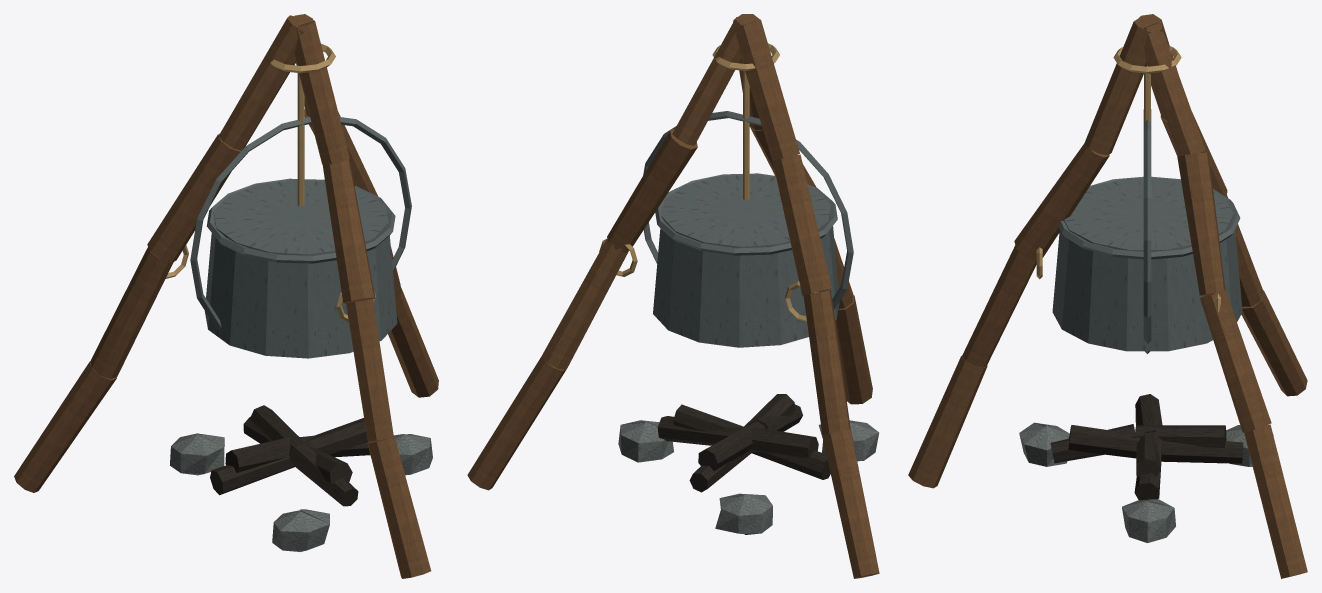
Rendered from en-017_cooking_corner_set__pot.obj.
3 renders of one model, left to right at view 1: azimuth 30°, elevation 25°; view 2: azimuth 150°, elevation 25°; view 3: azimuth 270°, elevation 25°, orthographic. The views are drawn at different scales.
Visible parts, largest first — view 1: en-017_cooking_corner_set__pot; view 2: en-017_cooking_corner_set__pot; view 3: en-017_cooking_corner_set__pot.
Part boxes in pixels (x1=…): en-017_cooking_corner_set__pot: x1=14, y1=14, x2=438, y2=578; en-017_cooking_corner_set__pot: x1=467, y1=14, x2=879, y2=578; en-017_cooking_corner_set__pot: x1=908, y1=14, x2=1307, y2=578.
Size of the model in its own units: 1.1 by 1.21 by 0.9248.
Materials: 5 (5 with a texture image).
